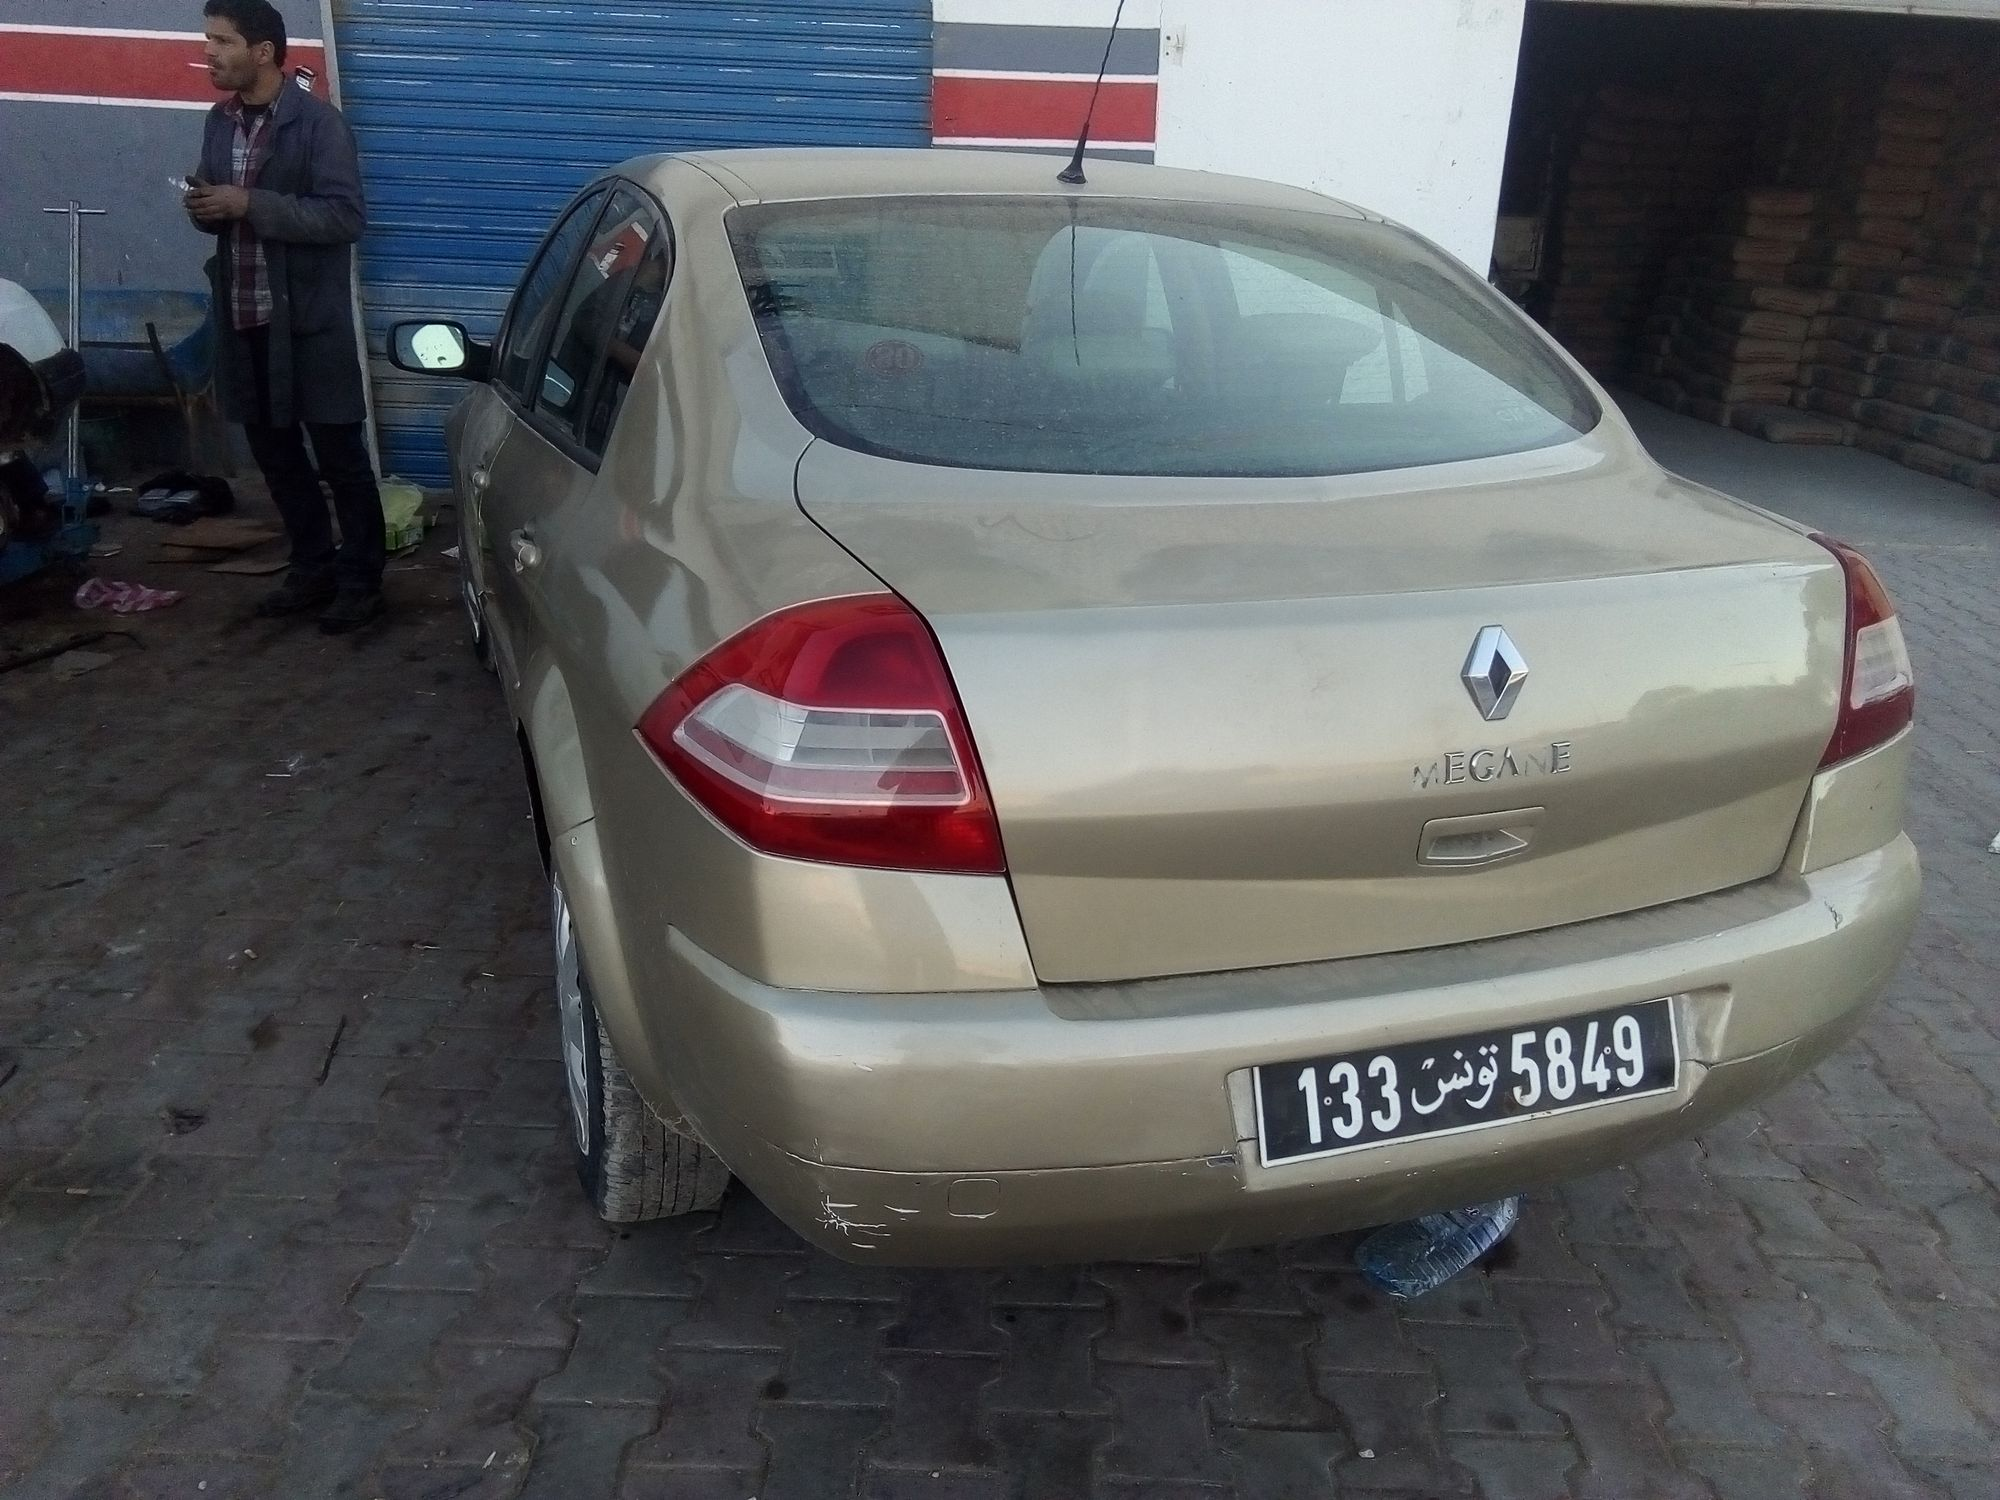LP: (1257, 1004, 1676, 1162)
